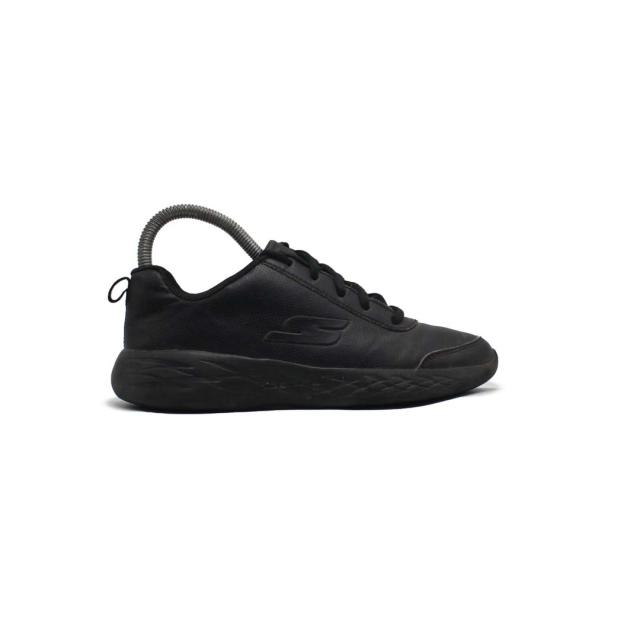heel: (105, 258, 171, 356)
midsole: (119, 357, 496, 411)
uppersole: (172, 262, 503, 374)
